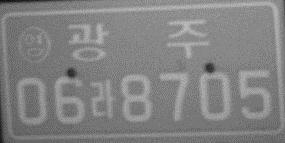0: (199, 71, 232, 122), (15, 76, 48, 126)
5: (236, 69, 272, 121)
6: (53, 75, 85, 125)
7: (158, 71, 191, 121)
8: (120, 73, 152, 123)
광주_D: (68, 18, 210, 61)
라: (89, 80, 117, 120)
영: (16, 25, 51, 65)
